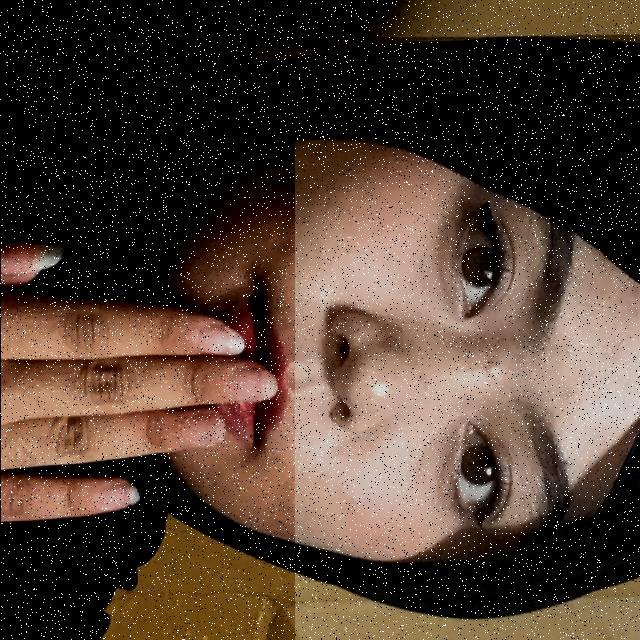ganteng: (0, 100, 294, 640)
